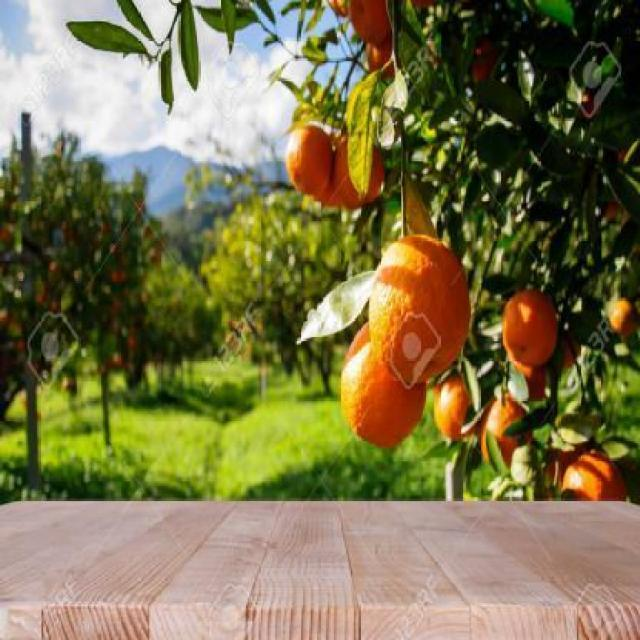Jeruk Sudah Matang: (370, 235, 472, 383), (341, 319, 428, 450), (502, 288, 562, 376), (468, 390, 530, 467), (559, 442, 627, 506), (330, 132, 381, 205), (432, 367, 478, 441), (287, 128, 330, 188), (348, 0, 394, 46), (601, 295, 640, 346)
